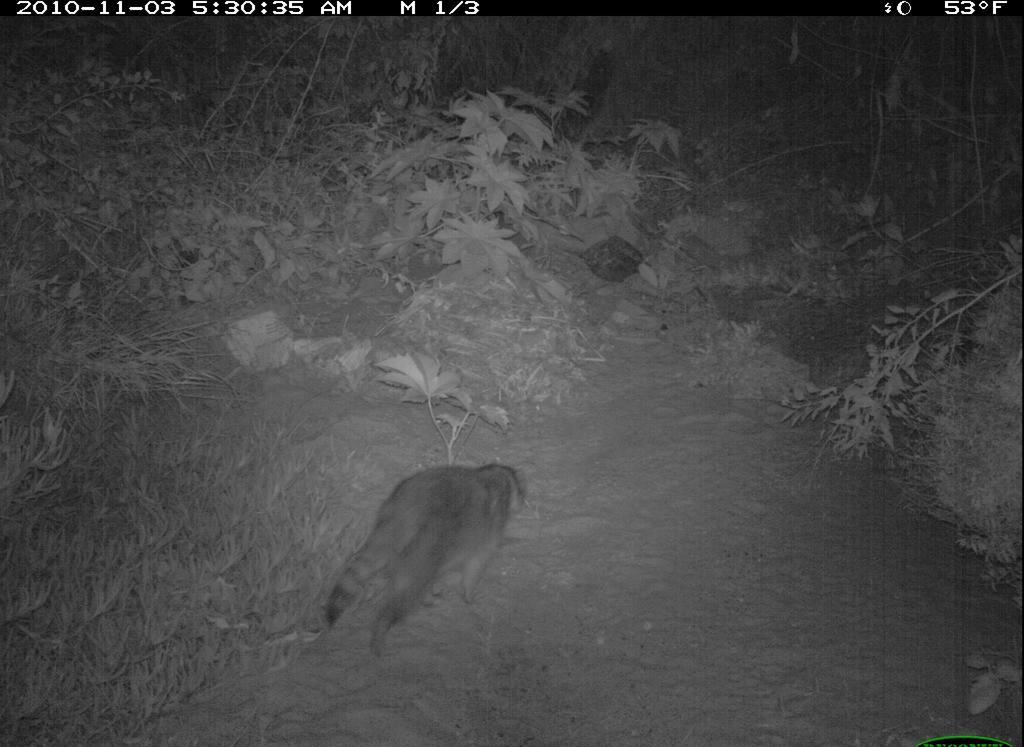raccoon: (315, 459, 532, 656)
